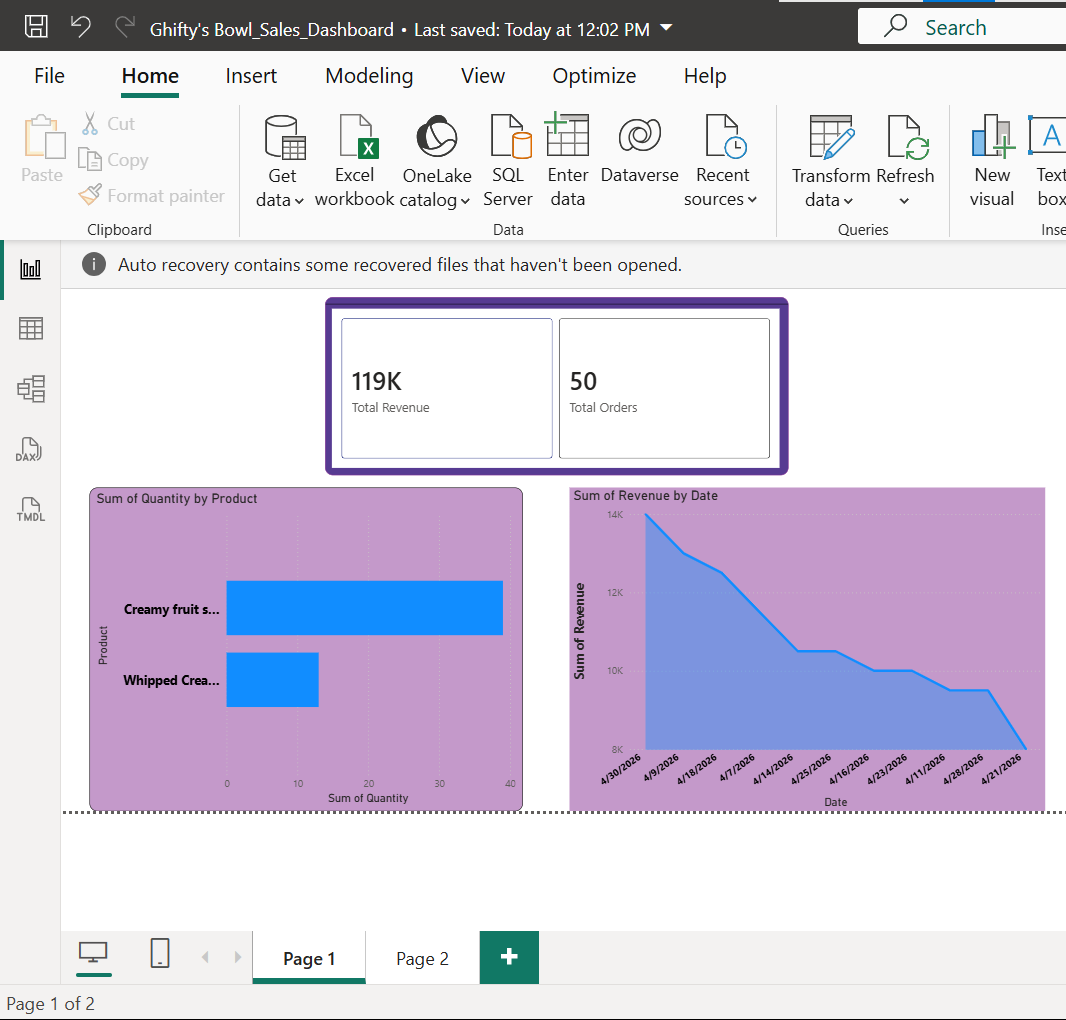

What the dashboard file says about the page in this screenshot:
{"tool":"powerbi","page":{"name":"Page 1","canvas":[1280,720],"ordinal":0},"visuals":[{"type":"cardVisual","fields":{"Data":["sales_data.Total Revenue","sales_data.Total Orders"]},"box":[332.6,71.8,583.9,224.9],"z":0},{"type":"barChart","fields":{"Category":["sales_data.Product"],"Y":["Sum(sales_data.Quantity)"]},"box":[35.9,311.8,546.1,408.2],"z":1000},{"type":"areaChart","fields":{"Category":["sales_data.Date"],"Y":["Sum(sales_data.Revenue)"]},"box":[640.6,311.8,599.1,408.2],"z":2000}]}

Visuals, with their boxes in screenshot pixels (x1, y1, x2, y2):
cardVisual - sales_data.Total Revenue x sales_data.Total Orders: x1=322, y1=296, x2=784, y2=474
barChart - sales_data.Product x Sum(sales_data.Quantity): x1=87, y1=486, x2=519, y2=809
areaChart - sales_data.Date x Sum(sales_data.Revenue): x1=566, y1=486, x2=1040, y2=809
